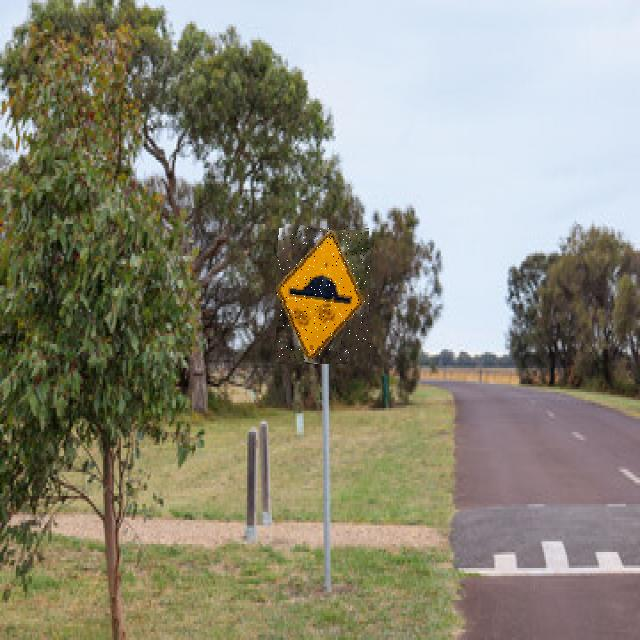hump: (276, 226, 372, 364)
